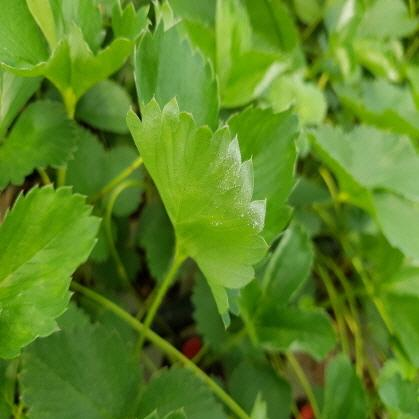Powdery Mildew Leaf: (125, 95, 272, 331)
